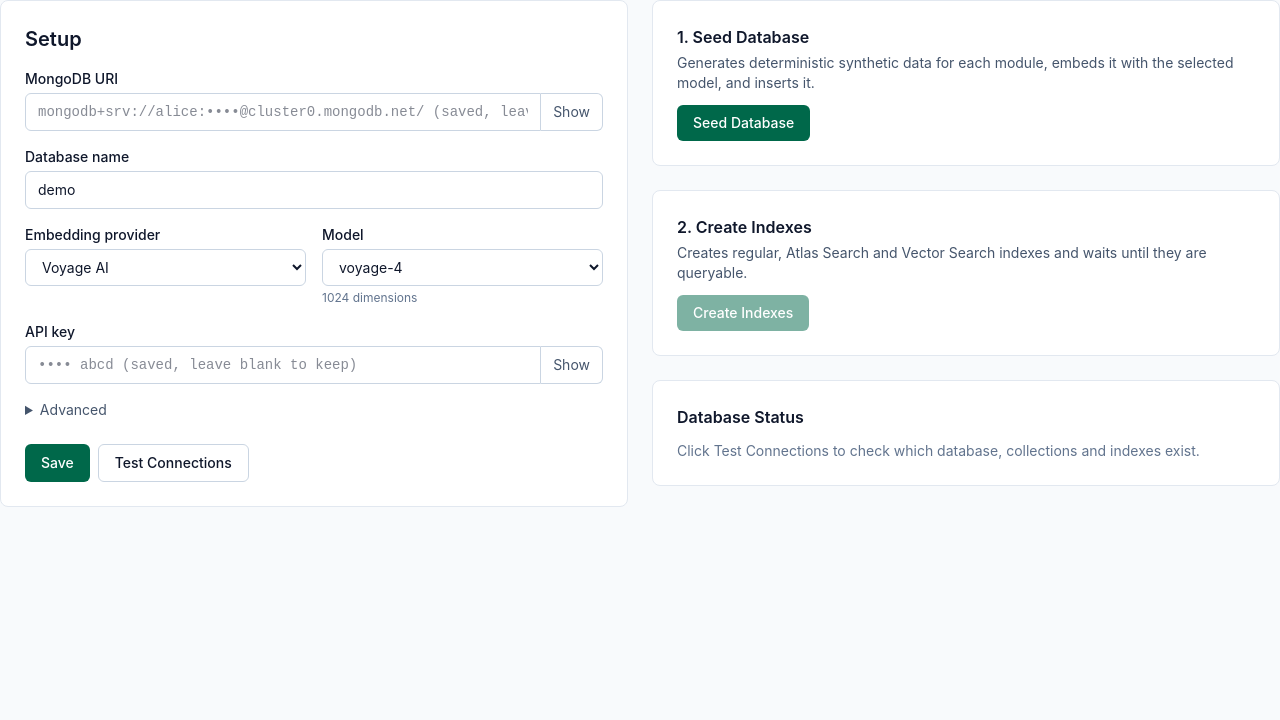
Test: SetupPage › shows database, collection and index status after Test Connections
Expected: the element with test id "inventory" shows "Click Test Connections", x1=677 y1=442 x2=1200 y2=459
Click the button "Test Connections": [173, 463] box x1=98 y1=444 x2=249 y2=482
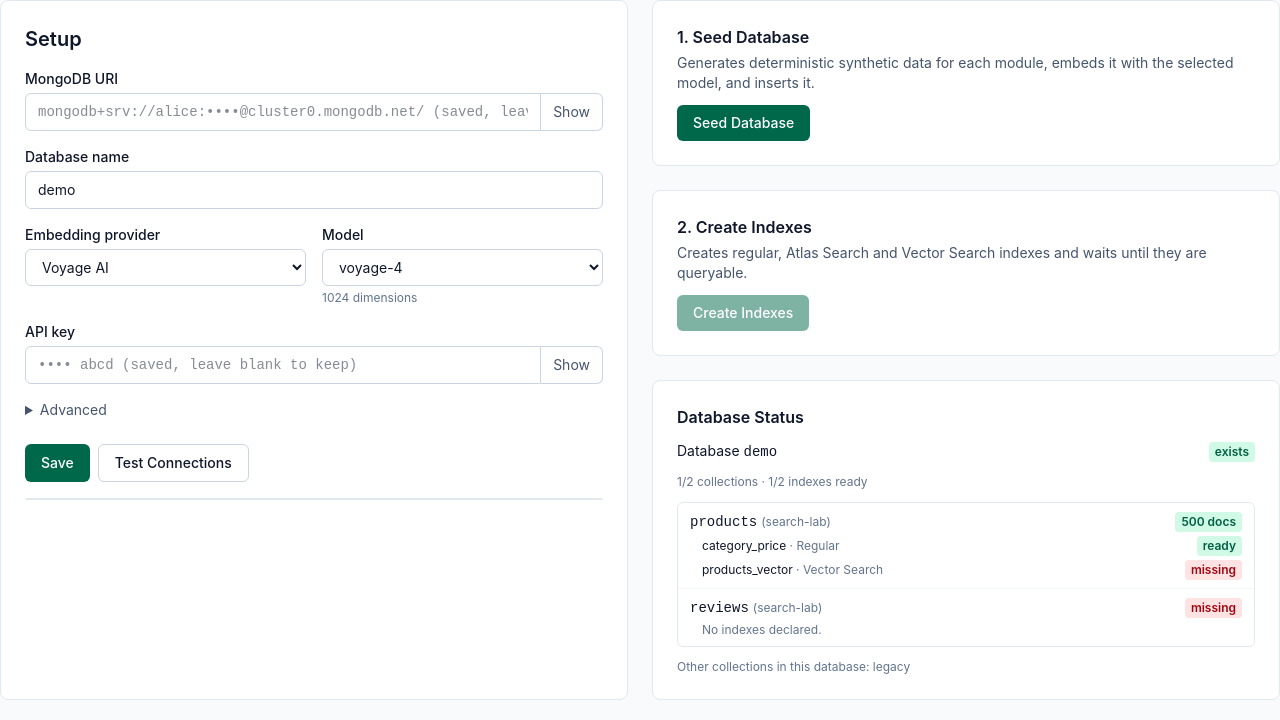
Result: the text with test id "inventory-summary" reads "1/2 collections · 1/2 indexes ready" at x1=677 y1=474 x2=868 y2=489
Result: the list item with test id "collection-products" shows "500 docs" at x1=678 y1=503 x2=1254 y2=589
Result: the list item with test id "collection-products" shows "products_vector · Vector Search" at x1=678 y1=503 x2=1254 y2=589
